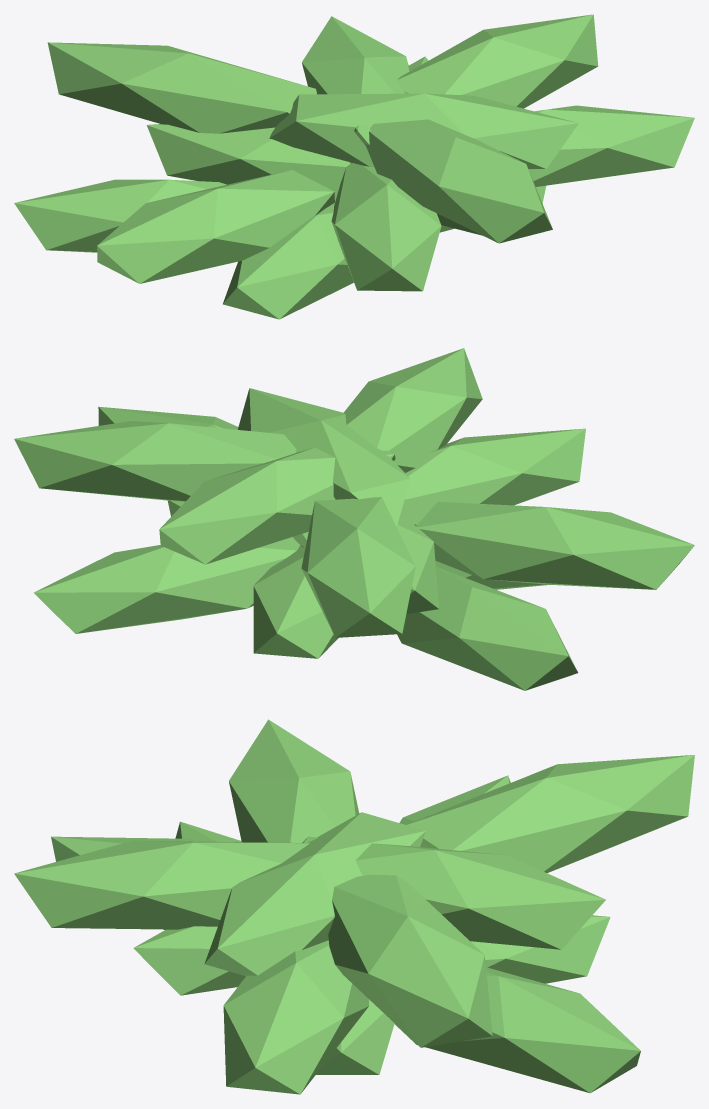
Rendered from FTF_Ingredient_Chopped_Cabbage.glb.
The picture shows the model from 3 angles, top to bottom: view 1: azimuth 30°, elevation 25°; view 2: azimuth 150°, elevation 25°; view 3: azimuth 270°, elevation 25°; orthographic projection. The views are drawn at different scales.
Visible parts, largest first — view 1: Cabbage_Chunk_00; view 2: Cabbage_Chunk_00; view 3: Cabbage_Chunk_00.
Boxes of the visible parts, bbox=[...] form: Cabbage_Chunk_00: bbox=[14, 14, 694, 319]; Cabbage_Chunk_00: bbox=[14, 348, 694, 690]; Cabbage_Chunk_00: bbox=[14, 719, 694, 1094].
Size of the model in its own units: 0.9808 by 0.2399 by 0.8449.
